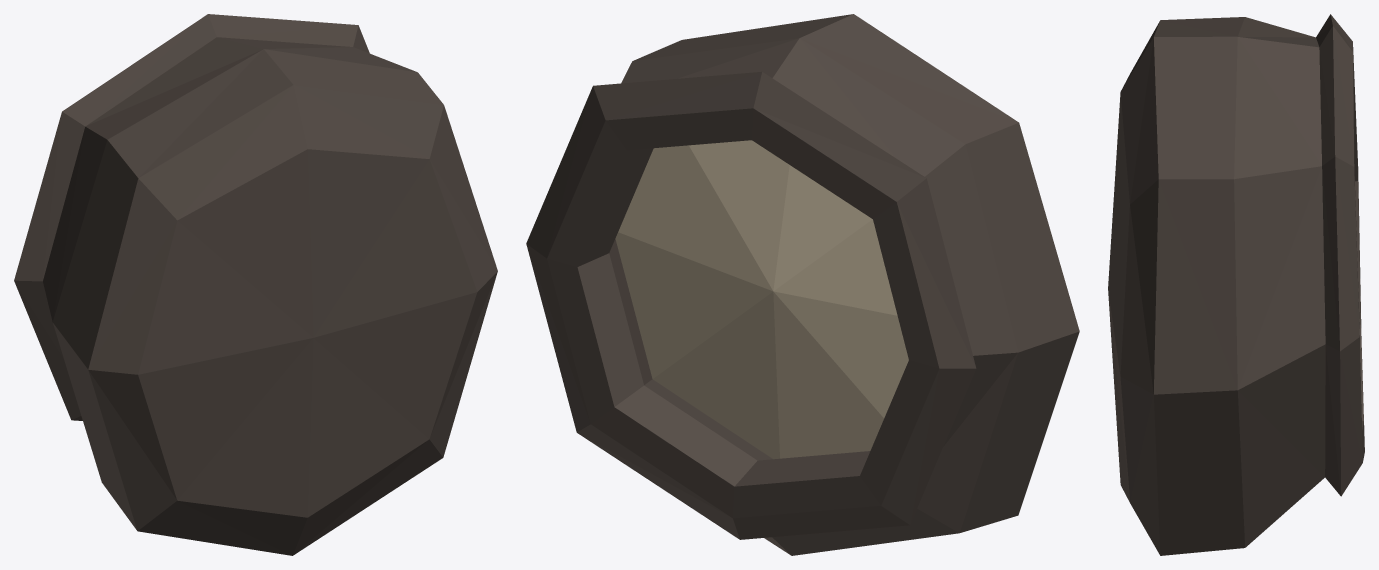
File: Sack 05.FBX
3 renders of one model, left to right at view 1: azimuth 30°, elevation 25°; view 2: azimuth 150°, elevation 25°; view 3: azimuth 270°, elevation 25°, orthographic. The views are drawn at different scales.
Parts seen in each view (by area): view 1: Sack 05; view 2: Sack 05; view 3: Sack 05.
Boxes of the visible parts, bbox=[...] form: Sack 05: bbox=[14, 14, 497, 555]; Sack 05: bbox=[526, 14, 1079, 555]; Sack 05: bbox=[1108, 14, 1364, 555].
Bounding box in the file's own units: 100 × 50.06 × 110.
